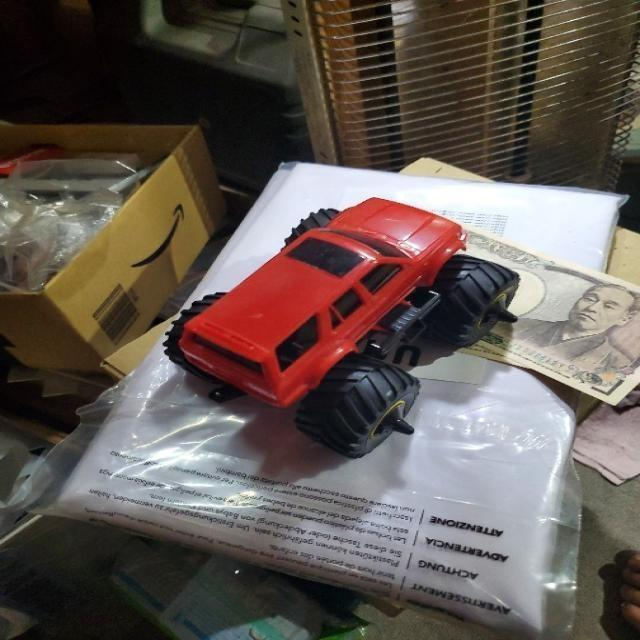Car: (118, 169, 550, 473)
